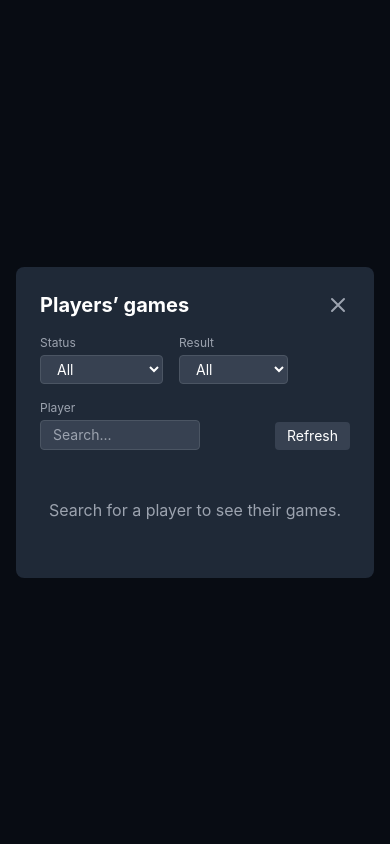
Test: GameBrowser › shows empty state when the player has no games
Step 1. Type "ali" into the field with placeholder "Search..." → (120, 434), box [40,420,200,450]
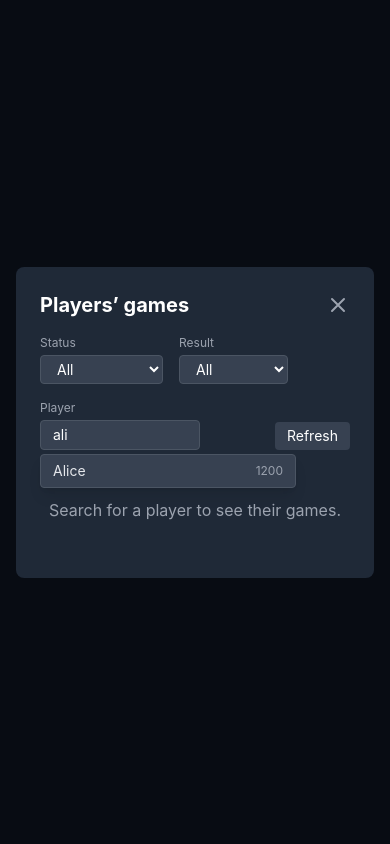
Step 2. Click the text "Alice" → (69, 470), box [53,460,86,480]
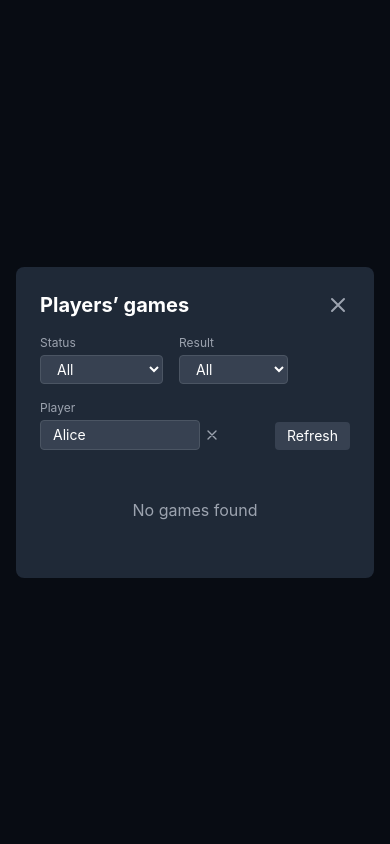
Result: the text "No games found" is shown at [132,500,258,520]
